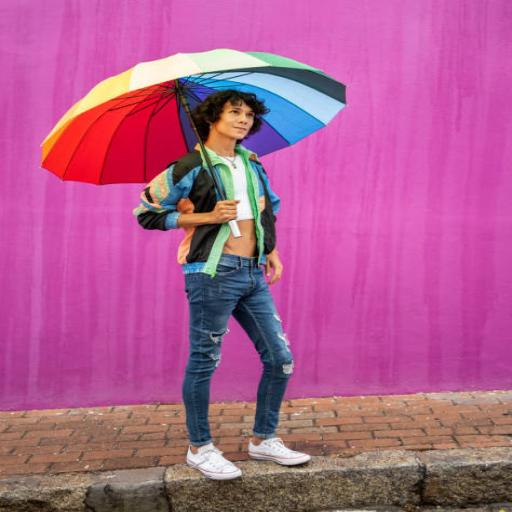guarda_chuva: (39, 47, 348, 237)
